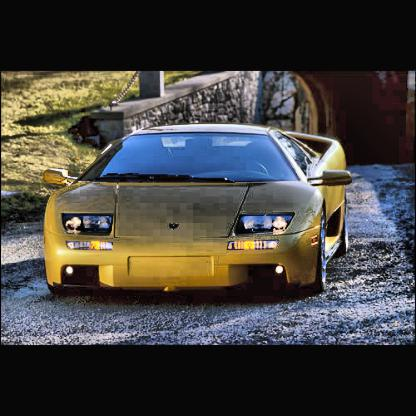Lamborghini Diablo Coupe 2001: (45, 124, 353, 293)
